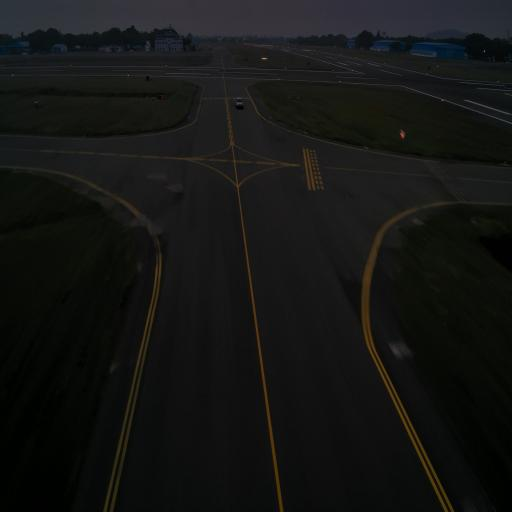on: (393, 334, 401, 355)
